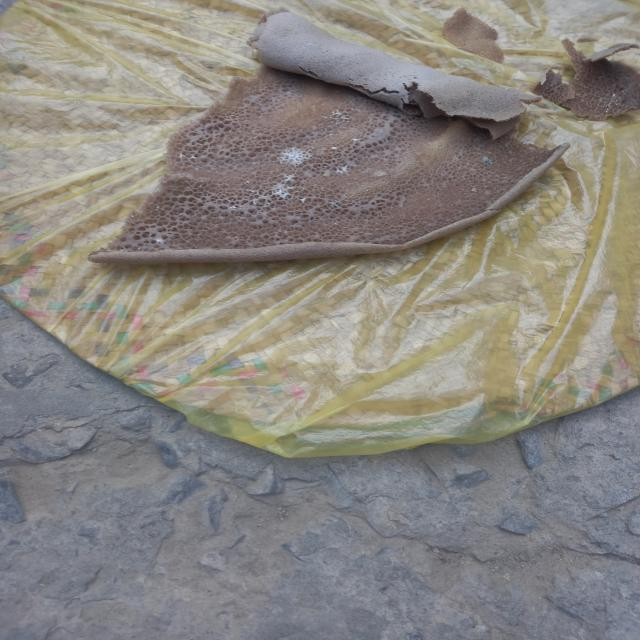injera_mold: (272, 144, 320, 172), (324, 108, 354, 125), (267, 182, 296, 199), (328, 162, 353, 178), (153, 234, 172, 248), (478, 154, 495, 166), (306, 42, 314, 48)
